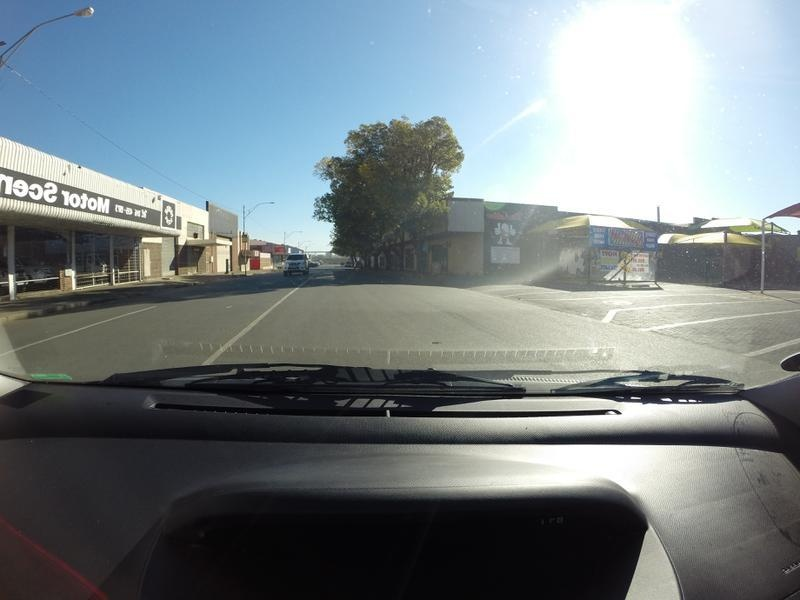pothole: (426, 339, 439, 347)
